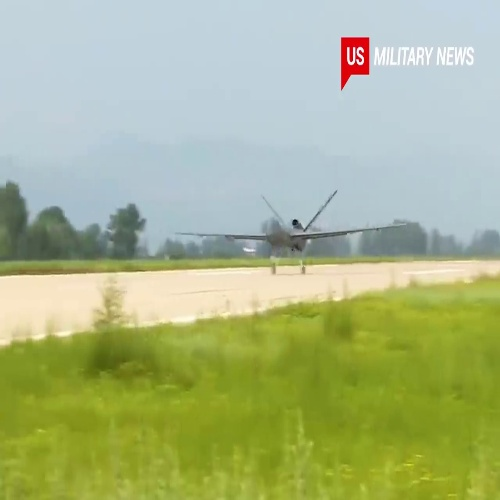uav: (171, 190, 410, 276)
